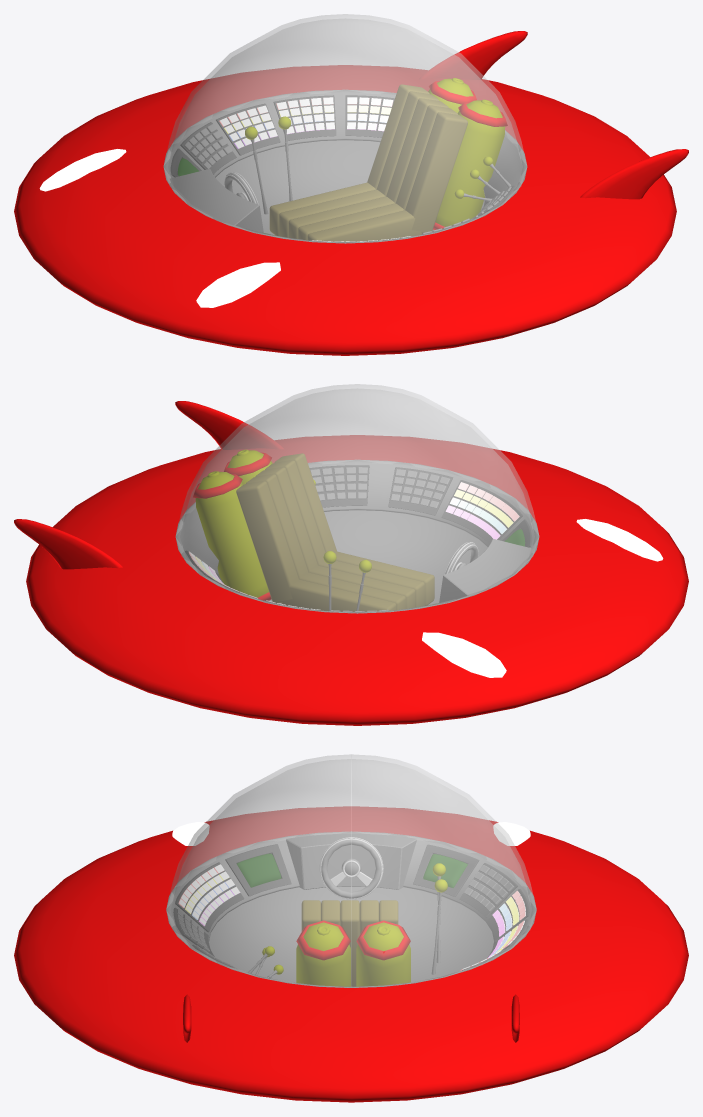
Rendered from spaceman_spiff_red_space_saucer_ship.glb.
3 renders of one model, top to bottom at view 1: azimuth 30°, elevation 25°; view 2: azimuth 150°, elevation 25°; view 3: azimuth 270°, elevation 25°, orthographic.
Visible parts, largest first — view 1: Hull_0, Canopy_3, Dash_4, Cube.001_60, Cube_59, Tanks.002_64, Console_5, Plane_73, Plane.001_74, Headlight.001_72, Headlight_71, Dash.014_22 (+5 smaller); view 2: Hull_0, Canopy_3, Dash_4, Cube.001_60, Cube_59, Tanks_62, Console_5, Plane.001_74, Plane_73, Headlight_71, Headlight.001_72, Dash.020_28 (+4 smaller); view 3: Hull_0, Canopy_3, Dash_4, Console_5, Cube.001_60, Tanks.002_64, Tanks_62, Steering Wheel_8, Dash.031_39, Dash.029_37, Dash.020_28, Dash.032_40 (+7 smaller).
Part boxes in pixels (x1,y1,x2,y2): Hull_0: [14, 65, 676, 355]; Canopy_3: [164, 14, 526, 243]; Dash_4: [163, 90, 527, 243]; Cube.001_60: [367, 84, 467, 233]; Cube_59: [269, 182, 421, 241]; Tanks.002_64: [435, 99, 504, 226]; Console_5: [169, 169, 263, 232]; Plane_73: [580, 149, 688, 199]; Plane.001_74: [419, 31, 527, 79]; Headlight.001_72: [196, 262, 280, 307]; Headlight_71: [39, 149, 126, 191]; Dash.014_22: [273, 95, 336, 140]; Hull_0: [26, 435, 688, 725]; Canopy_3: [176, 384, 538, 613]; Dash_4: [175, 460, 539, 613]; Cube.001_60: [236, 453, 336, 603]; Cube_59: [281, 551, 434, 611]; Tanks_62: [195, 471, 268, 597]; Console_5: [439, 539, 533, 602]; Plane.001_74: [14, 519, 122, 569]; Plane_73: [175, 401, 283, 449]; Headlight_71: [422, 632, 506, 677]; Headlight.001_72: [576, 519, 663, 561]; Dash.020_28: [441, 480, 522, 544]; Hull_0: [14, 806, 688, 1102]; Canopy_3: [166, 754, 536, 987]; Dash_4: [166, 831, 536, 987]; Console_5: [286, 833, 416, 889]; Cube.001_60: [301, 900, 398, 986]; Tanks.002_64: [296, 922, 350, 986]; Tanks_62: [356, 922, 410, 986]; Steering Wheel_8: [321, 838, 381, 898]; Dash.031_39: [225, 844, 291, 896]; Dash.029_37: [413, 844, 479, 896]; Dash.020_28: [175, 862, 243, 931]; Dash.032_40: [237, 853, 281, 887].
Size of the model in its own units: 3.2 by 1.22 by 3.2.
